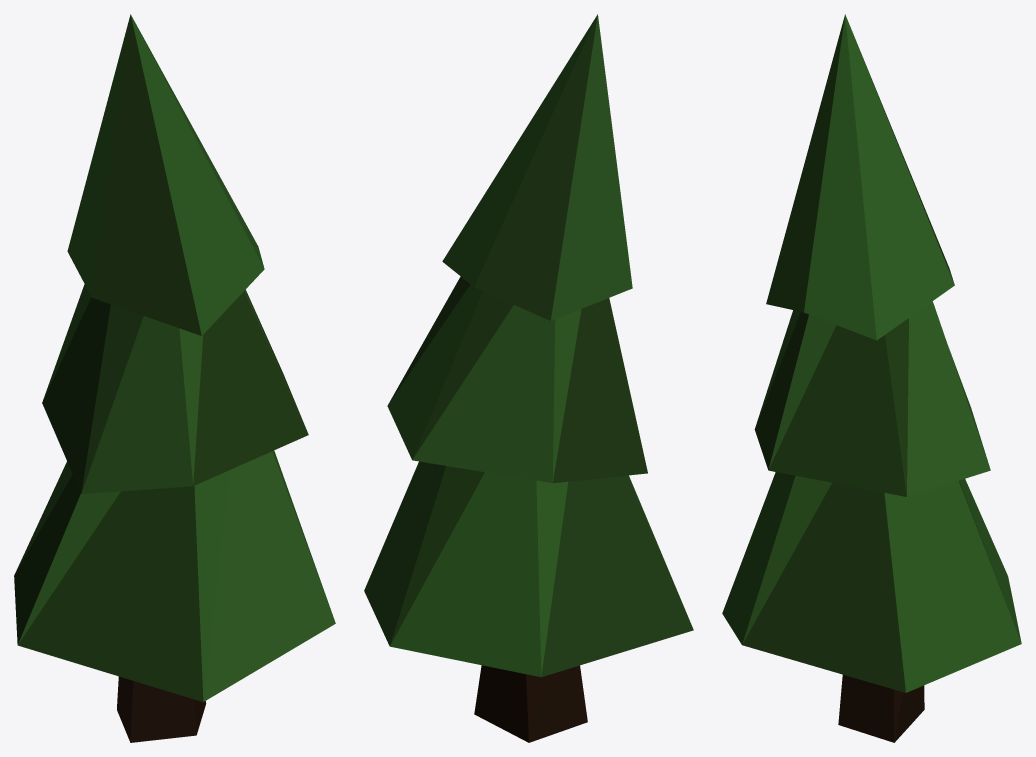
Rendered from Tree2_M1_4_big.fbx.
3 views of the same model, side by side, from view 1: azimuth 30°, elevation 25°; view 2: azimuth 150°, elevation 25°; view 3: azimuth 270°, elevation 25° (orthographic). The views are drawn at different scales.
Visible parts, largest first — view 1: Tree2_M1_4_big; view 2: Tree2_M1_4_big; view 3: Tree2_M1_4_big.
Boxes of the visible parts, x1,y1,x2,y2 form: Tree2_M1_4_big: [14, 14, 335, 742]; Tree2_M1_4_big: [364, 14, 693, 742]; Tree2_M1_4_big: [722, 14, 1021, 742].
Size of the model in its own units: 173 by 382 by 152.
